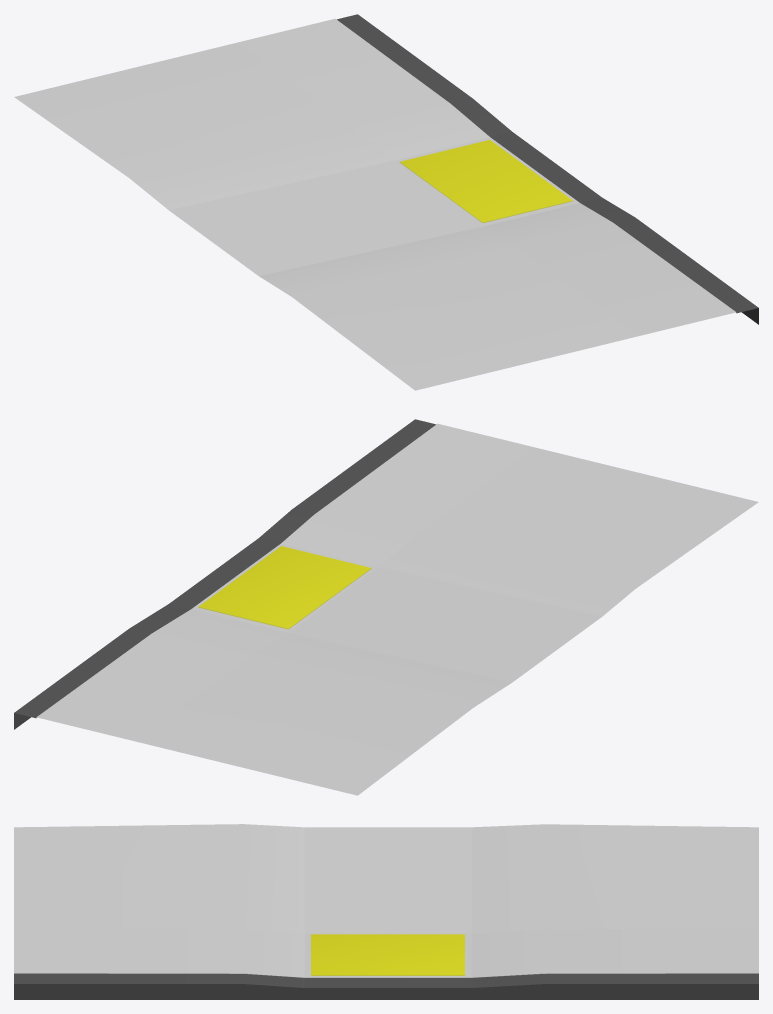
The model's file is Road 2.fbx.
3 renders of one model, top to bottom at view 1: azimuth 30°, elevation 25°; view 2: azimuth 150°, elevation 25°; view 3: azimuth 270°, elevation 25°, orthographic. The views are drawn at different scales.
Parts seen in each view (by area): view 1: Cube; view 2: Cube; view 3: Cube.
Boxes of the visible parts, left/top/right/bottom form: Cube: left=14, top=14, right=758, bottom=390; Cube: left=14, top=419, right=758, bottom=795; Cube: left=14, top=824, right=758, bottom=999.
Bounding box in the file's own units: 1983 × 119 × 4009.
